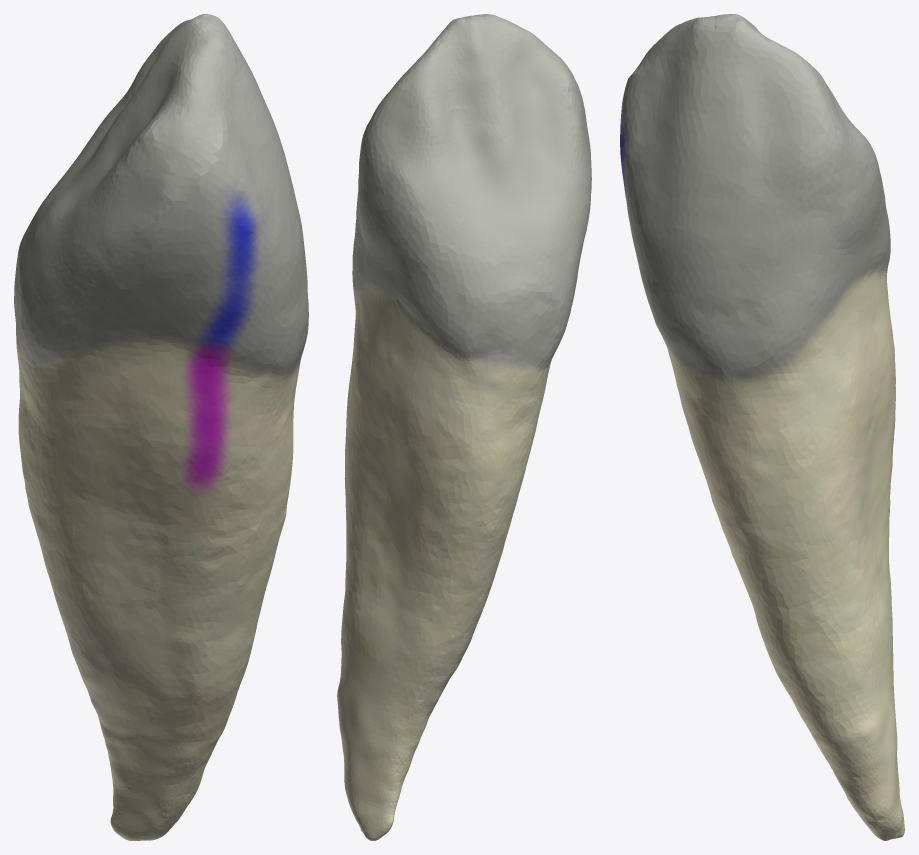
Rendered from 33 - canino inferior esquerdo - ângulo coroa-raíz.glb.
The picture shows the model from 3 angles, left to right: view 1: azimuth 30°, elevation 25°; view 2: azimuth 150°, elevation 25°; view 3: azimuth 270°, elevation 25°; orthographic projection. The views are drawn at different scales.
Parts seen in each view (by area): view 1: 3MFMeshParent_0; view 2: 3MFMeshParent_0; view 3: 3MFMeshParent_0.
Boxes of the visible parts, x1,y1,x2,y2 form: 3MFMeshParent_0: [14, 14, 308, 840]; 3MFMeshParent_0: [337, 14, 591, 840]; 3MFMeshParent_0: [620, 14, 904, 840].
Size of the model in its own units: 0.138 by 0.4704 by 0.1498.
Materials: 1 (1 with a texture image).
